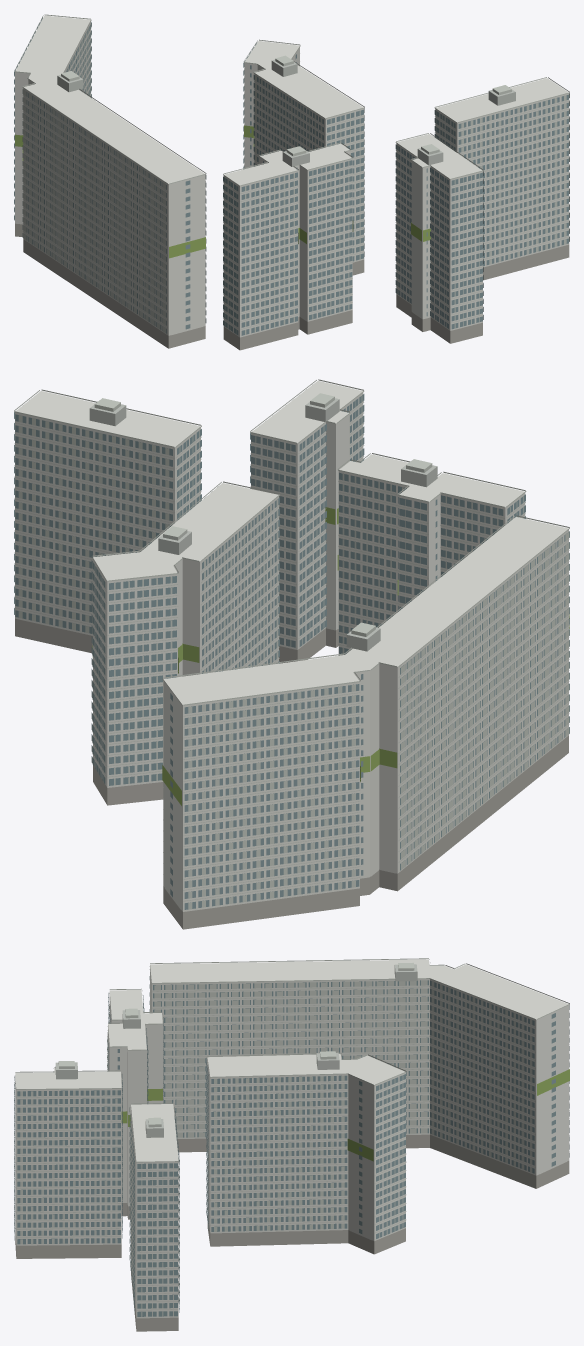
File: representative-a13384403.glb
3 views of the same model, one above another, from view 1: azimuth 30°, elevation 25°; view 2: azimuth 150°, elevation 25°; view 3: azimuth 270°, elevation 25° (orthographic). The views are drawn at different scales.
Visible parts, largest first — view 1: A13384403_wall002, A13384403_glass002, A13384403_trim002, A13384403_base002, A13384403_roof002, A13384403_accent002; view 2: A13384403_wall002, A13384403_glass002, A13384403_trim002, A13384403_base002, A13384403_roof002, A13384403_accent002; view 3: A13384403_wall002, A13384403_glass002, A13384403_trim002, A13384403_base002, A13384403_roof002, A13384403_accent002.
Boxes of the visible parts, box(x1,y1,x2,y2) form: A13384403_wall002: box(15, 15, 569, 337); A13384403_glass002: box(14, 17, 569, 335); A13384403_trim002: box(14, 14, 569, 334); A13384403_base002: box(15, 223, 569, 350); A13384403_roof002: box(57, 59, 515, 166); A13384403_accent002: box(15, 125, 430, 258); A13384403_wall002: box(15, 381, 568, 911); A13384403_glass002: box(14, 394, 569, 909); A13384403_trim002: box(14, 379, 569, 909); A13384403_base002: box(15, 618, 568, 929); A13384403_roof002: box(89, 398, 437, 651); A13384403_accent002: box(92, 507, 569, 805); A13384403_wall002: box(15, 959, 569, 1318); A13384403_glass002: box(14, 976, 569, 1316); A13384403_trim002: box(14, 958, 569, 1316); A13384403_base002: box(15, 1134, 569, 1331); A13384403_roof002: box(55, 964, 417, 1137); A13384403_accent002: box(121, 1069, 569, 1161).
Size of the model in its own units: 132 by 54.6 by 152.
